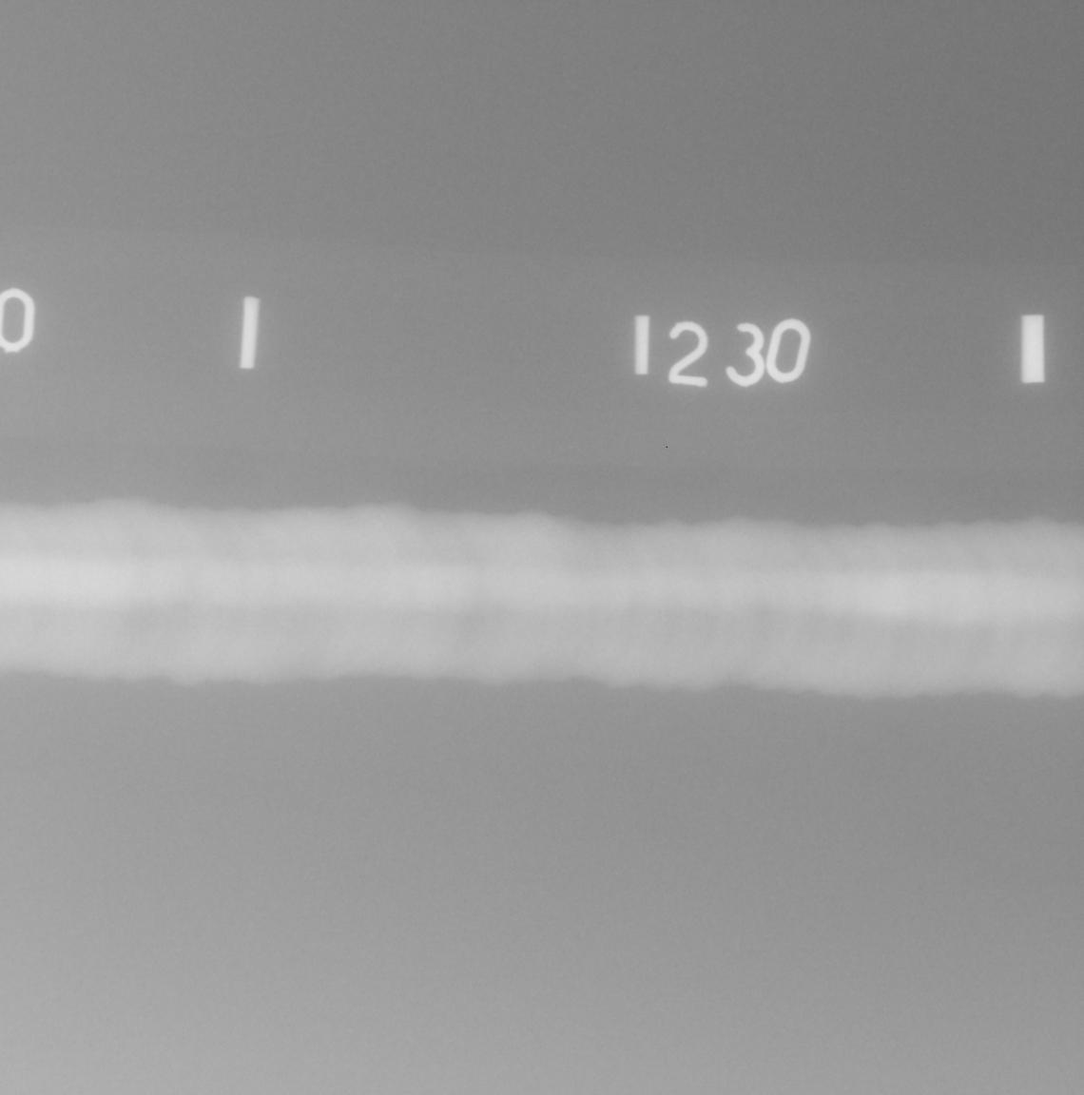Pore/Porosity: (272, 582, 278, 587)
